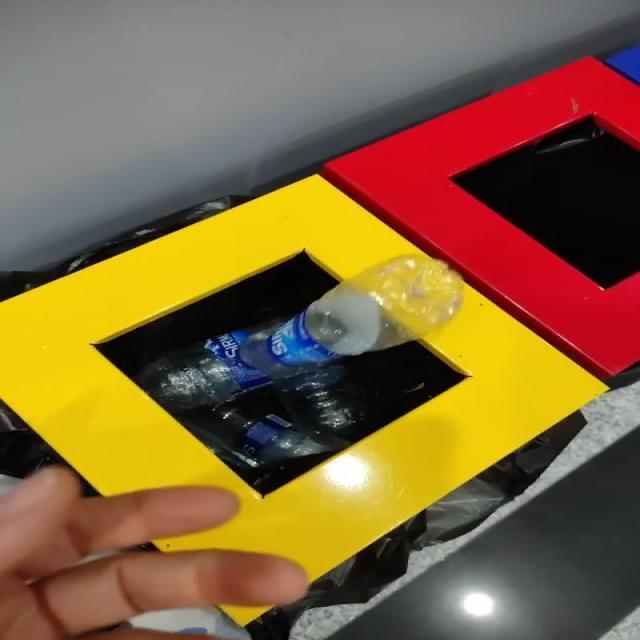Plastic: (139, 255, 465, 409), (240, 416, 324, 462)
